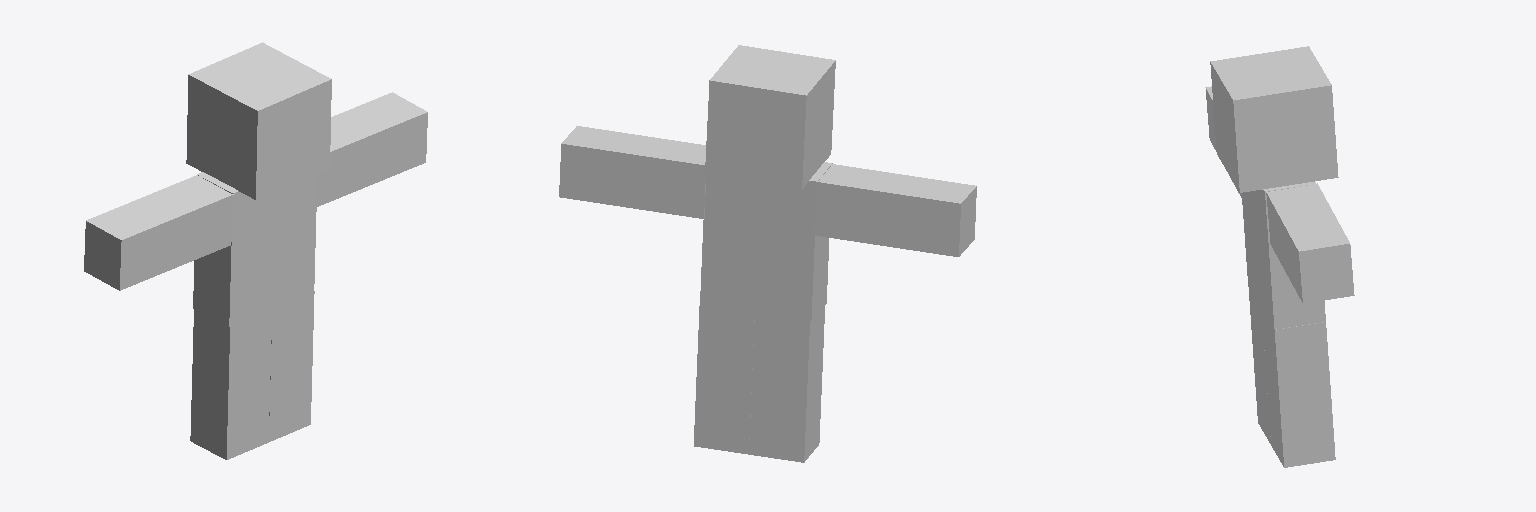
The model's file is Steve_Steve.obj.
3 views of the same model, side by side, from view 1: azimuth 30°, elevation 25°; view 2: azimuth 150°, elevation 25°; view 3: azimuth 270°, elevation 25° (orthographic).
Visible parts, largest first — view 1: mesh01; view 2: mesh01; view 3: mesh01.
Part boxes in pixels (left/top/right/bottom): mesh01: left=84, top=42, right=427, bottom=459; mesh01: left=559, top=45, right=976, bottom=462; mesh01: left=1205, top=46, right=1354, bottom=467.
Size of the model in its own units: 8.26 by 8.11 by 2.94.